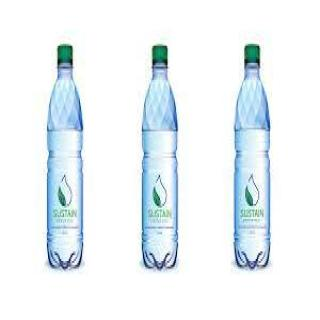Plastic-bottle: (141, 41, 182, 277), (233, 43, 274, 275), (47, 43, 88, 273)
